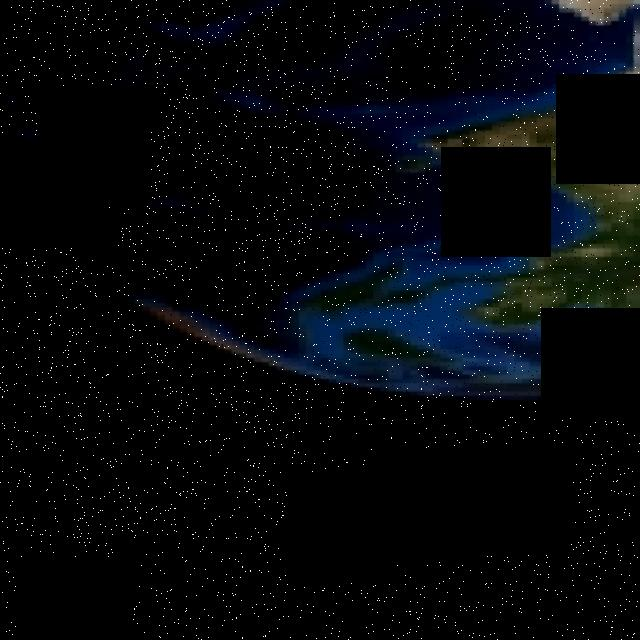Earth: (8, 0, 640, 400)
